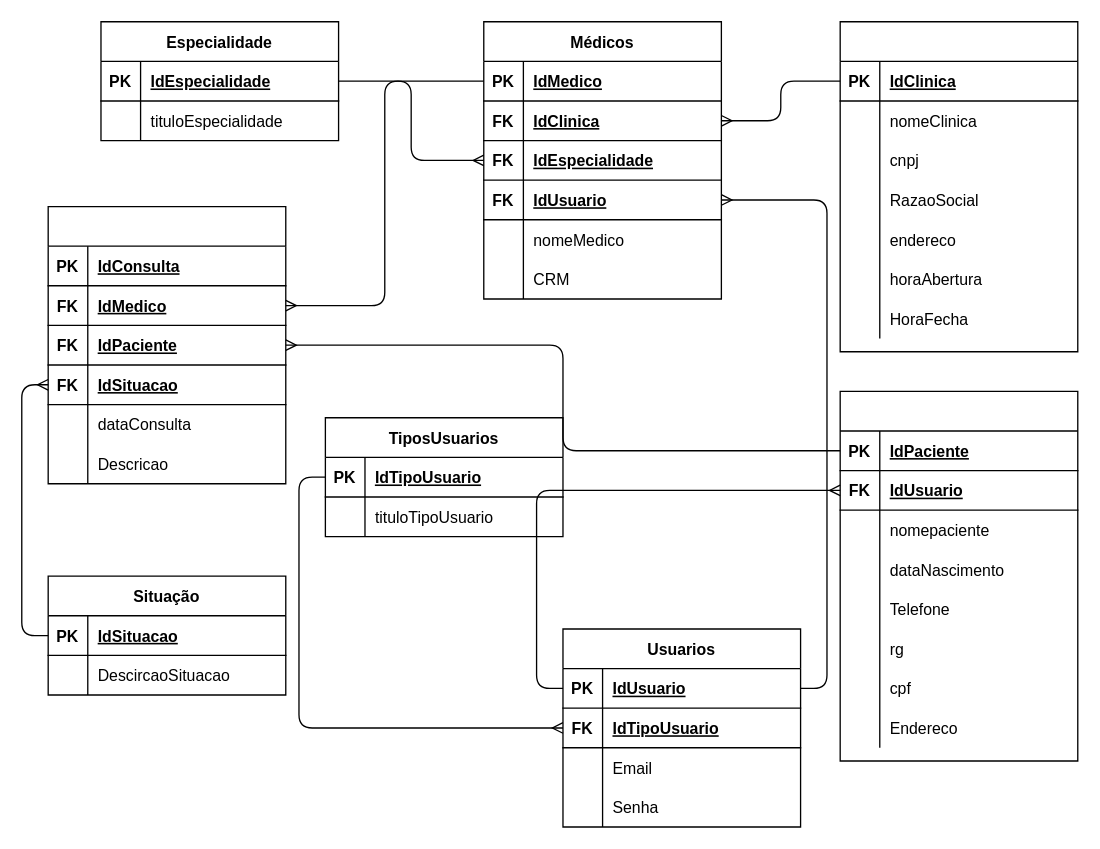
The diagram is 1100 pixels wide and 849 high, and some of its shapes have lost their labels. The box of each missing label's shape, as (x1, y1, x2, y2) in pixels:
Clínicas: (839, 20, 1078, 352)
Consultas: (47, 205, 286, 484)
Pacientes: (839, 390, 1078, 761)
